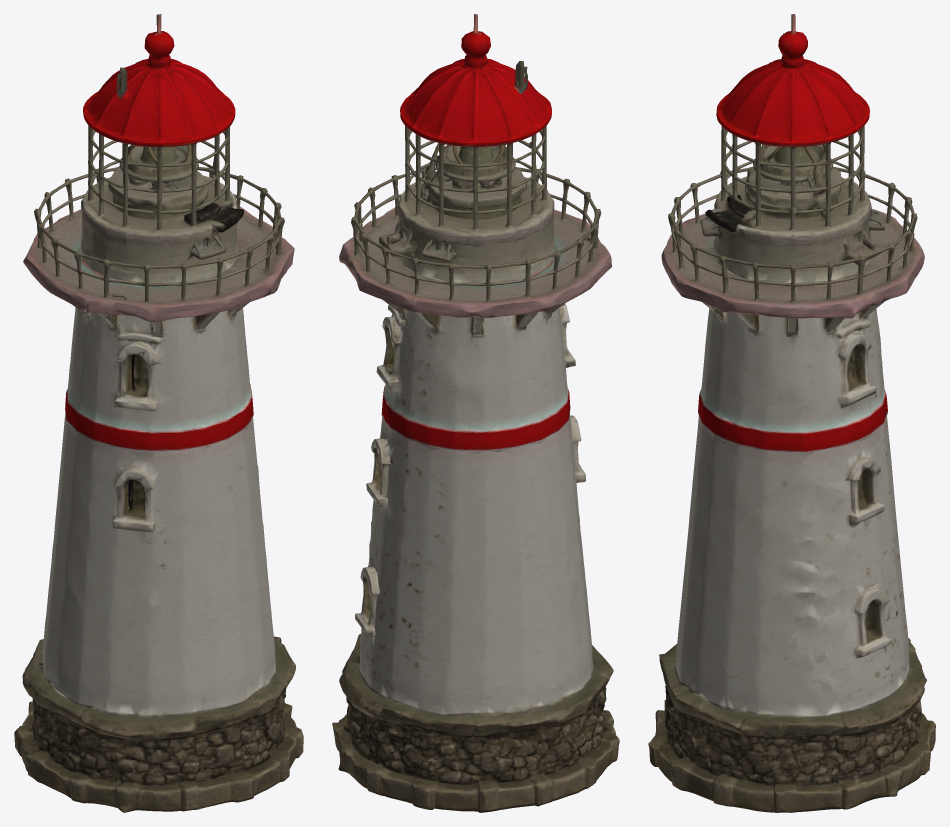
Rendered from Leuchtturm.glb.
3 views of the same model, side by side, from view 1: azimuth 30°, elevation 25°; view 2: azimuth 150°, elevation 25°; view 3: azimuth 270°, elevation 25° (orthographic).
Parts seen in each view (by area): view 1: tripo_node_c240dc77-5824-4de7-94db-0c6b3a26e17c; view 2: tripo_node_c240dc77-5824-4de7-94db-0c6b3a26e17c; view 3: tripo_node_c240dc77-5824-4de7-94db-0c6b3a26e17c.
Boxes of the visible parts, left/top/right/bottom form: tripo_node_c240dc77-5824-4de7-94db-0c6b3a26e17c: left=14, top=14, right=303, bottom=812; tripo_node_c240dc77-5824-4de7-94db-0c6b3a26e17c: left=332, top=14, right=619, bottom=812; tripo_node_c240dc77-5824-4de7-94db-0c6b3a26e17c: left=648, top=14, right=935, bottom=812.
Bounding box in the file's own units: 0.3559 × 1 × 0.3521.
Materials: 1 (1 with a texture image).
